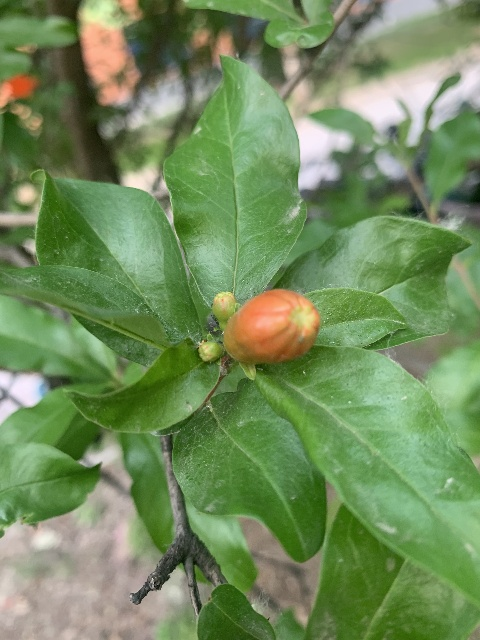bud: (224, 289, 320, 365), (212, 290, 235, 329), (198, 341, 223, 363)
